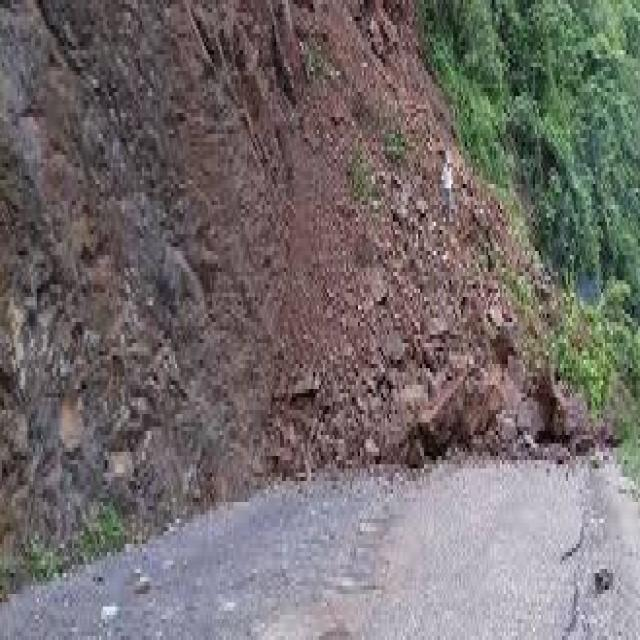landSliding: (201, 172, 636, 640)
